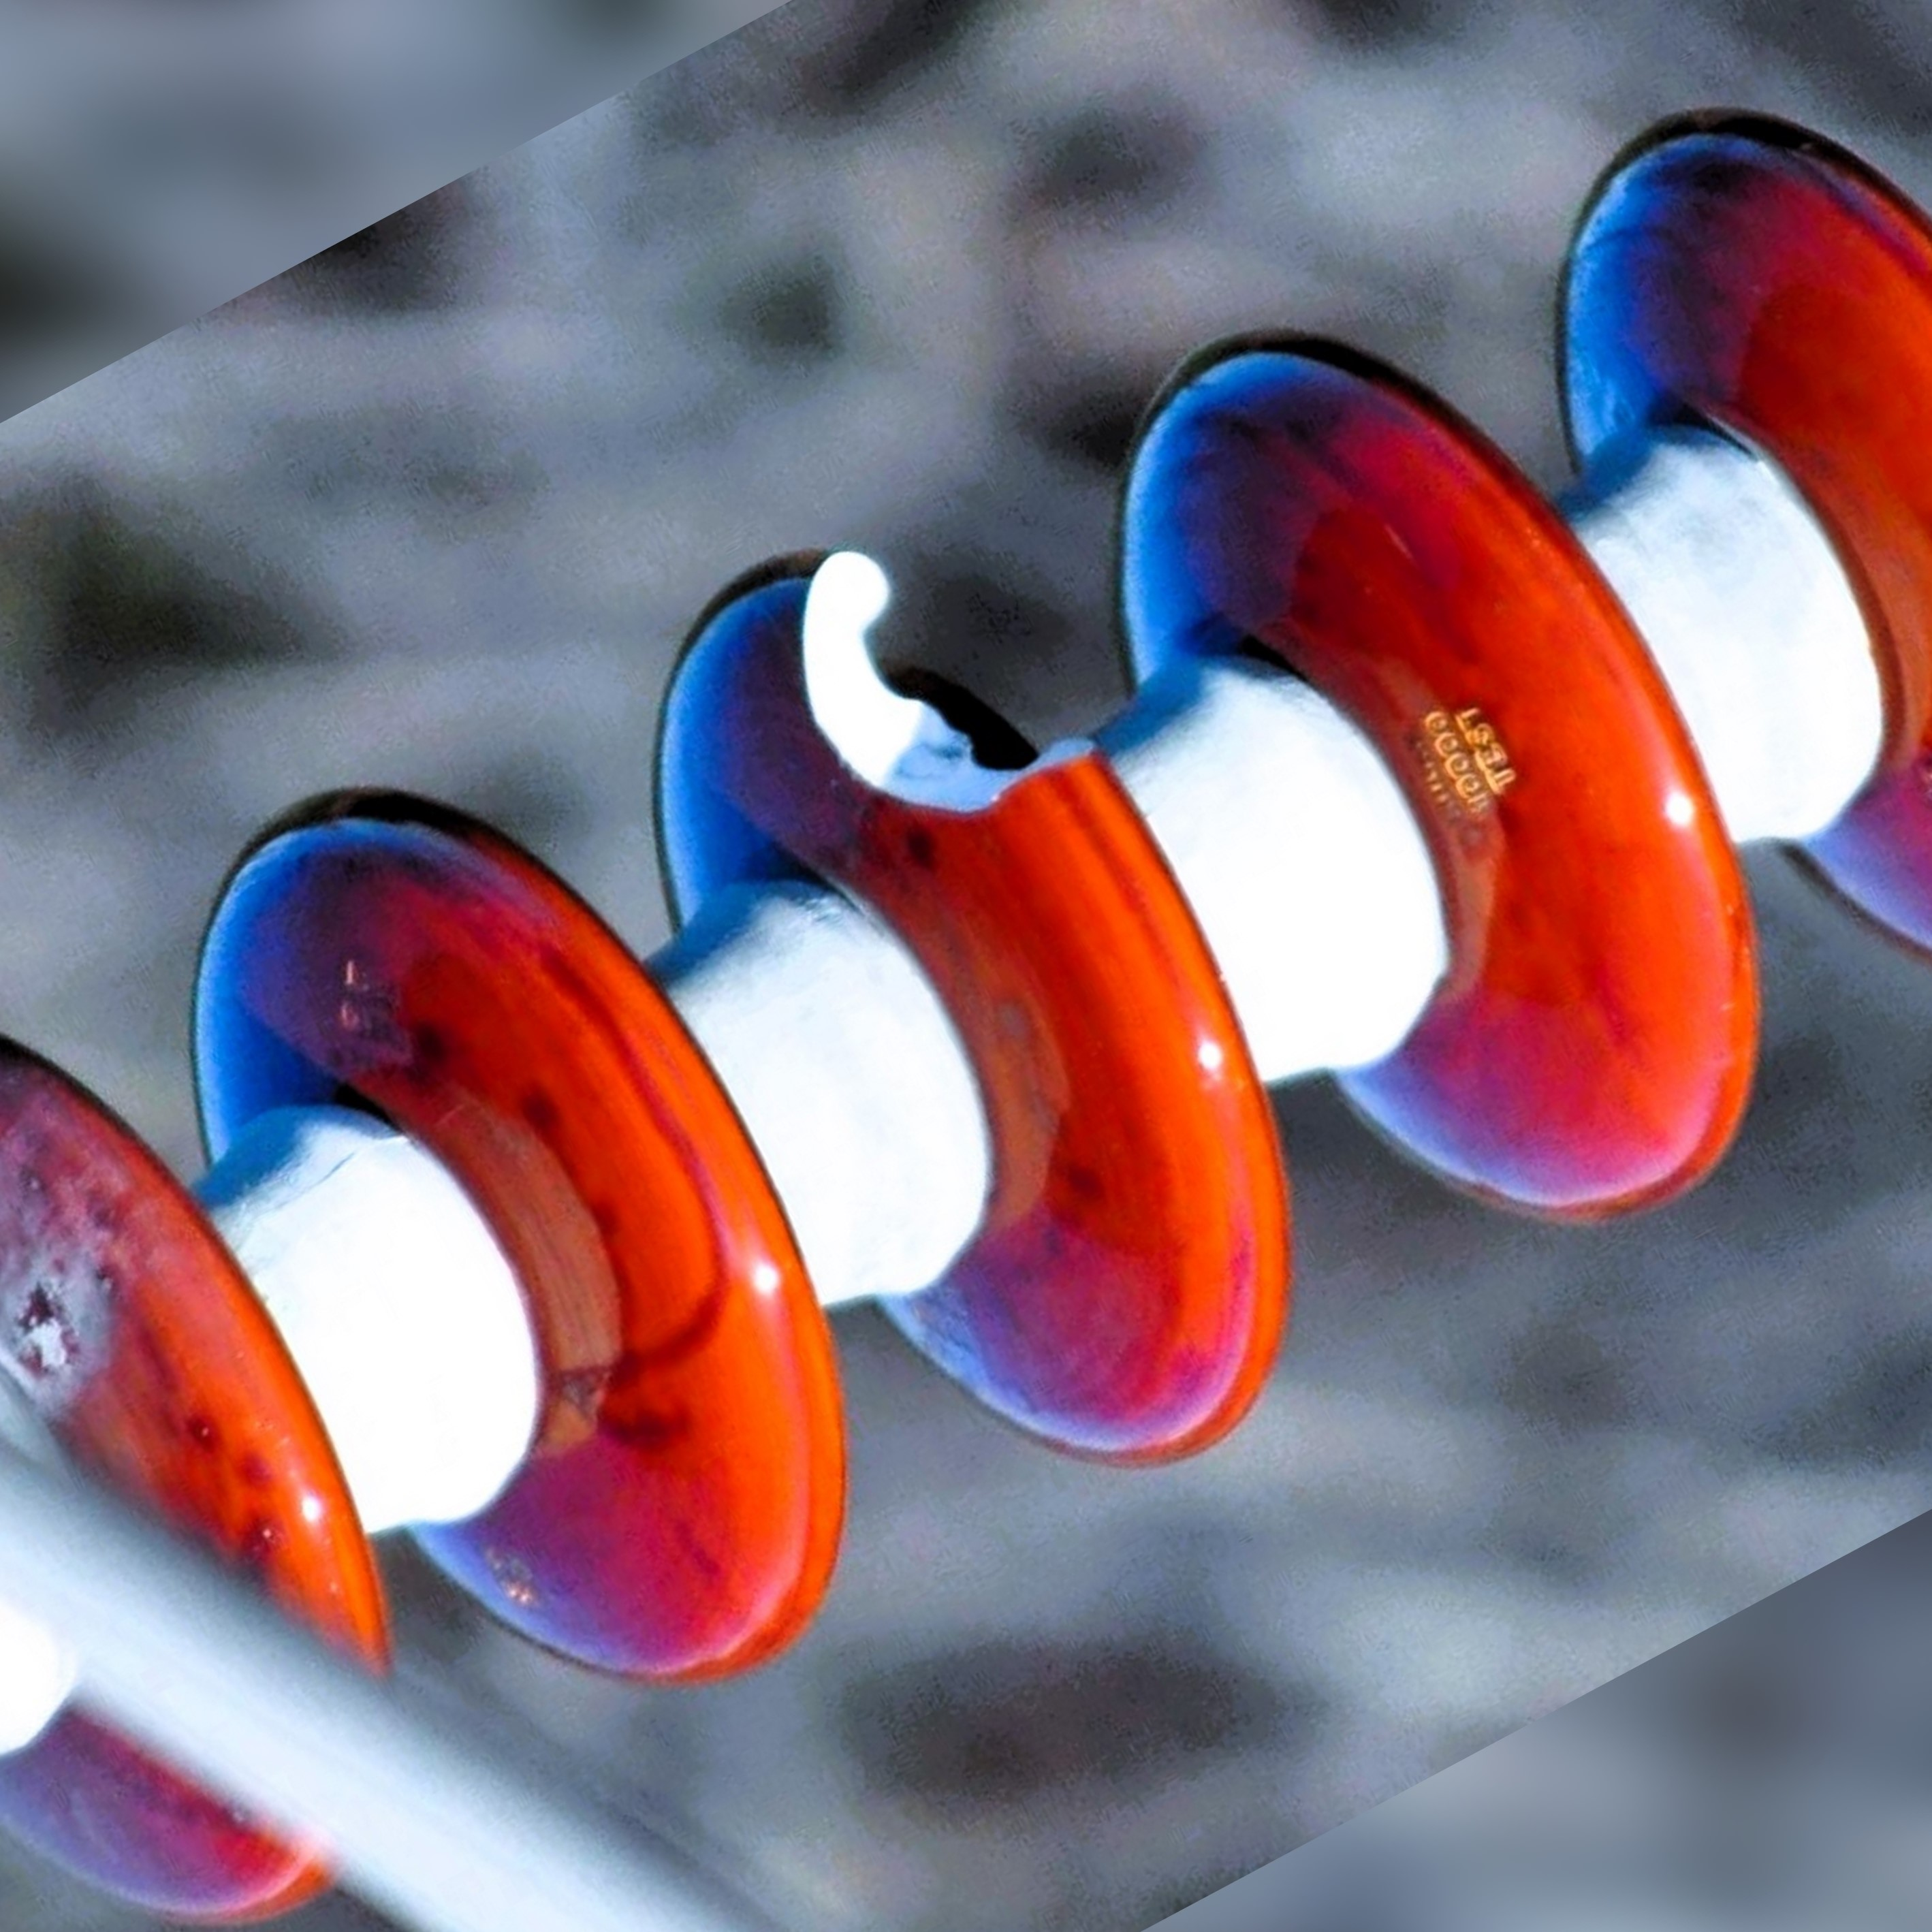insulator breakage: (649, 520, 1307, 1474)
